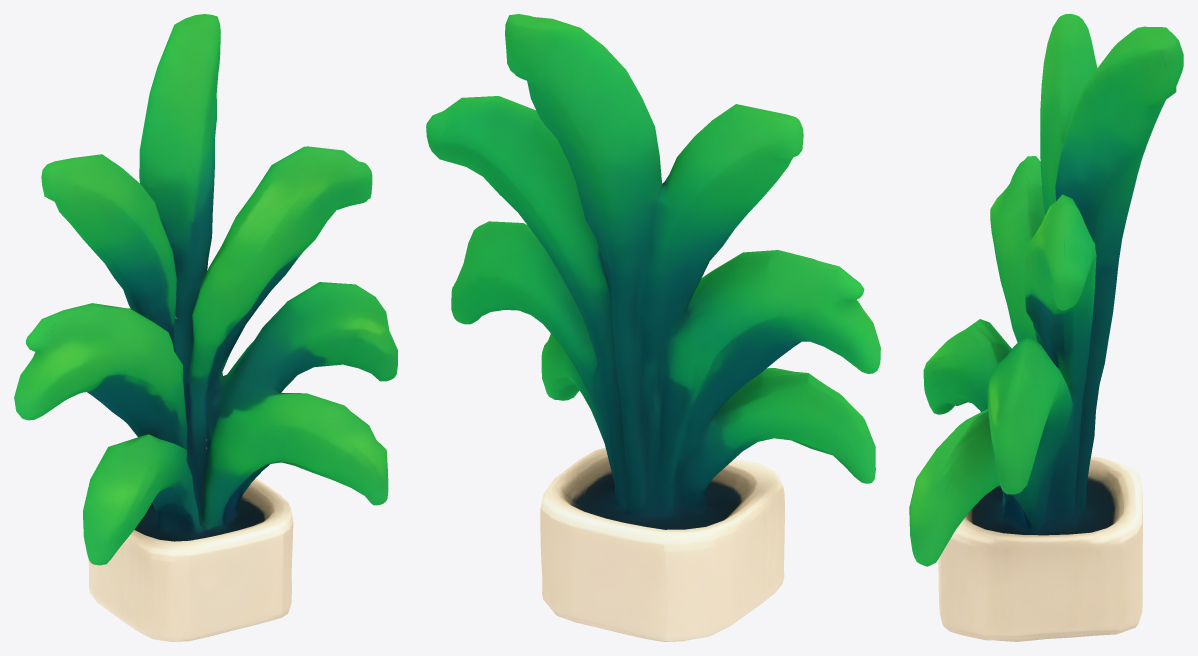
Rendered from 12-plant-tall.fbx.
3 renders of one model, left to right at view 1: azimuth 30°, elevation 25°; view 2: azimuth 150°, elevation 25°; view 3: azimuth 270°, elevation 25°, orthographic. The views are drawn at different scales.
Parts seen in each view (by area): view 1: model; view 2: model; view 3: model.
Boxes of the visible parts, <box> form: model: <box>14,14,397,641</box>; model: <box>426,14,880,641</box>; model: <box>909,14,1183,641</box>.
Bounding box in the file's own units: 140 × 189 × 77.9.
